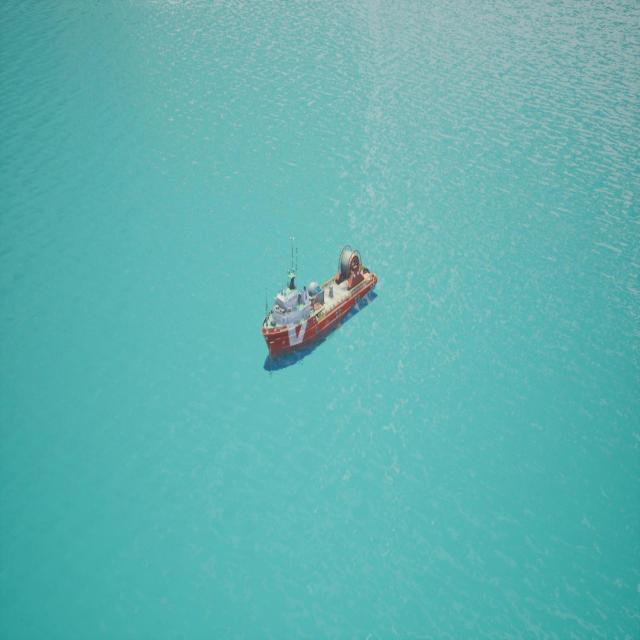tug boat: (262, 250, 380, 375)
